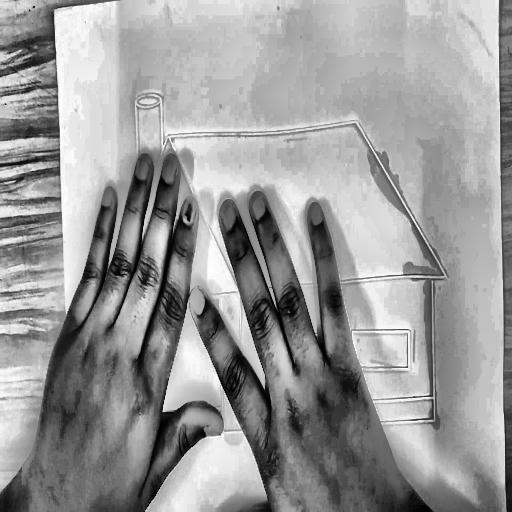house: (106, 74, 460, 459)
top_left: (50, 4, 59, 18)
